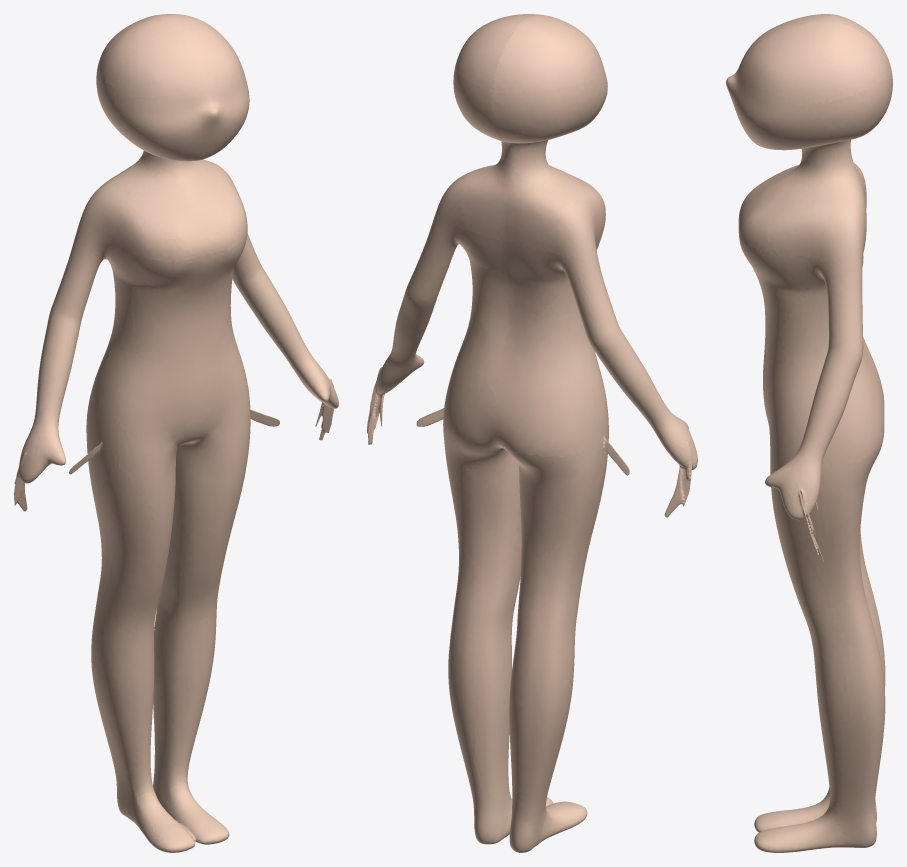
The model's file is body_f_base_v2.glb.
3 renders of one model, left to right at view 1: azimuth 30°, elevation 25°; view 2: azimuth 150°, elevation 25°; view 3: azimuth 270°, elevation 25°, orthographic.
Size of the model in its own units: 0.7871 by 1.9 by 0.3518.
1 material, 1 textured.
